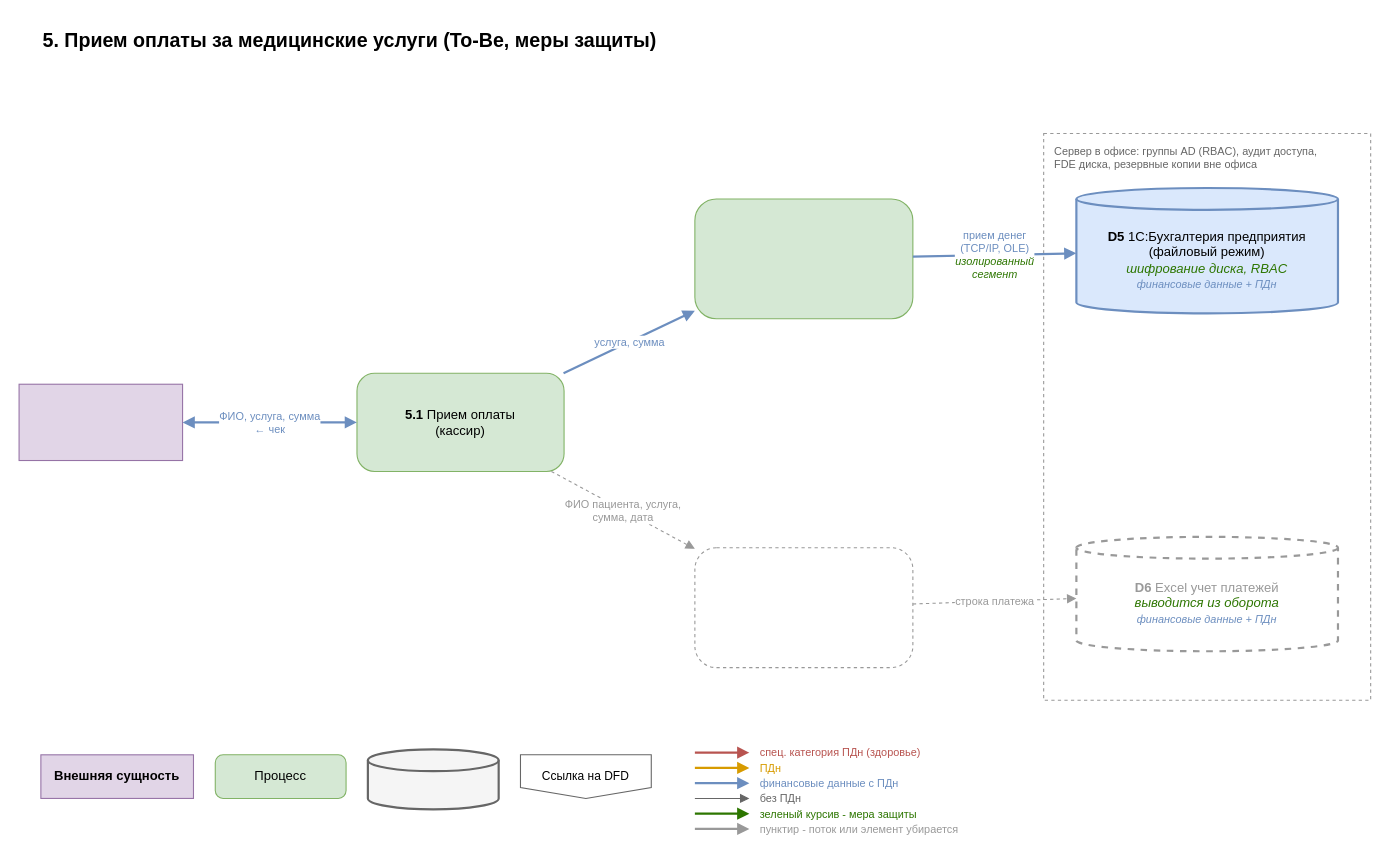
Some shapes in this 1390 by 857 pixel diagram are drawn without their labels. Here are the shapes that lost their labels. From the top down, the centre of each, then its label:
At point 803,258: "5.2 Пробитие чека на ККМ ККМ в отдельном сегменте сети".
At point 100,422: "Пациент".
At point 803,607: "5.3 Ручная запись в Excel убирается: единый учет в 1С".
At point 432,779: "Хранилище".
